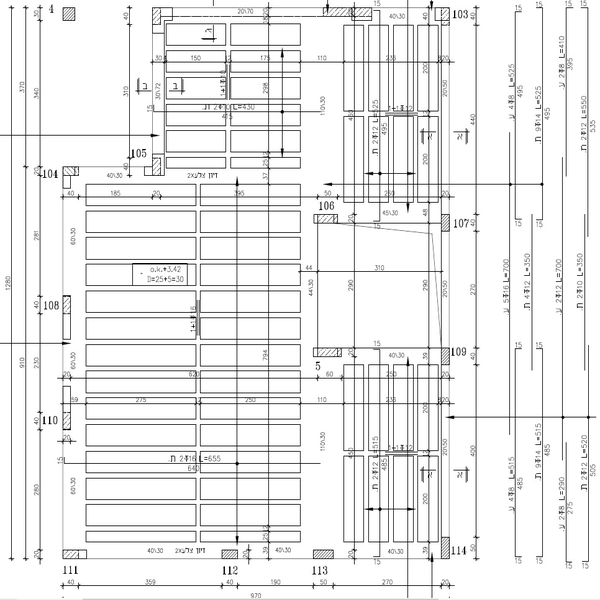room: (313, 211, 453, 371)
